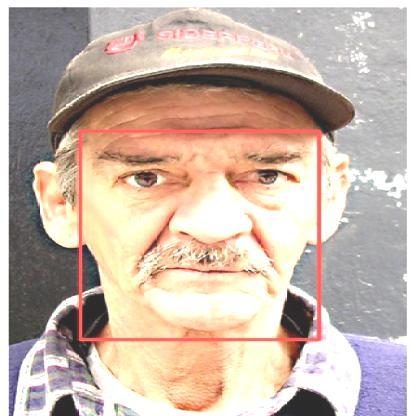without_mask: (80, 131, 319, 339)
